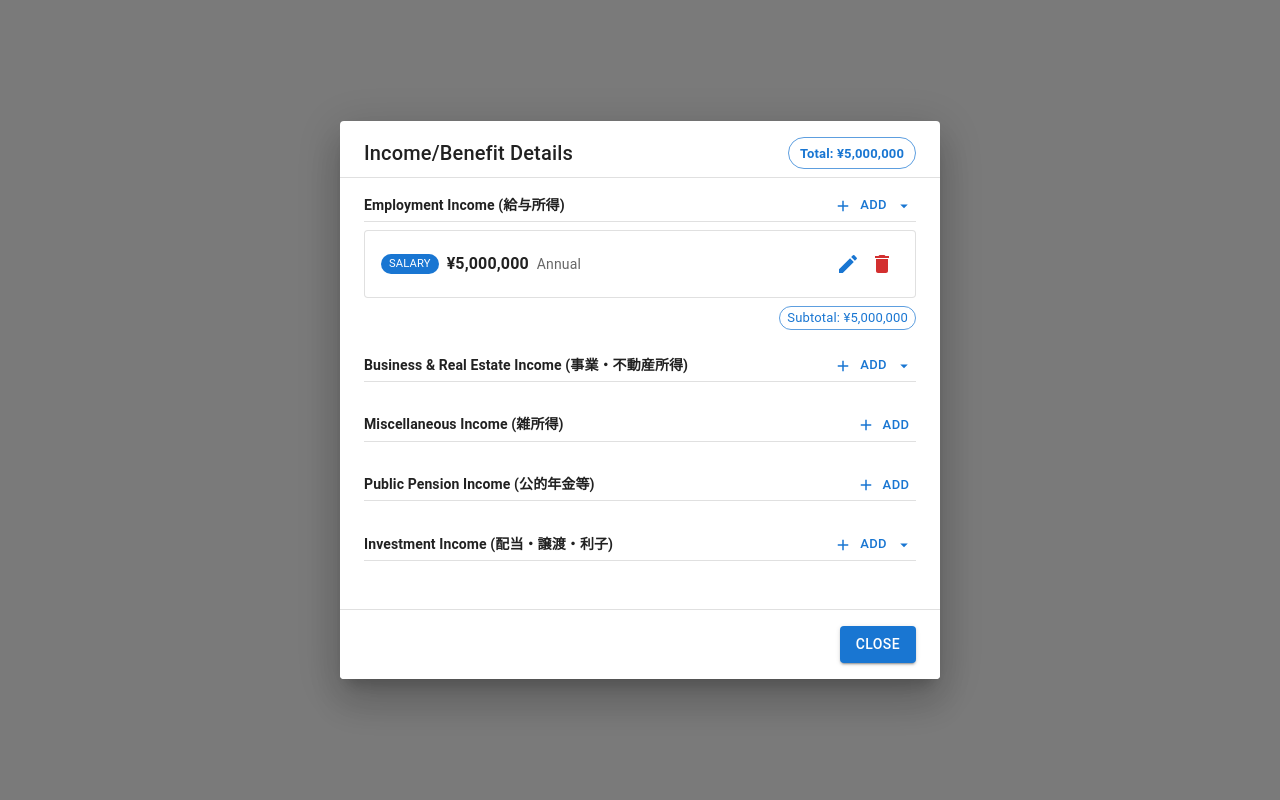
Test: IncomeDetailsModal - Adding from each section › keeps the type fixed while editing
Click the button named "edit income": (848, 264) x1=831 y1=247 x2=865 y2=281
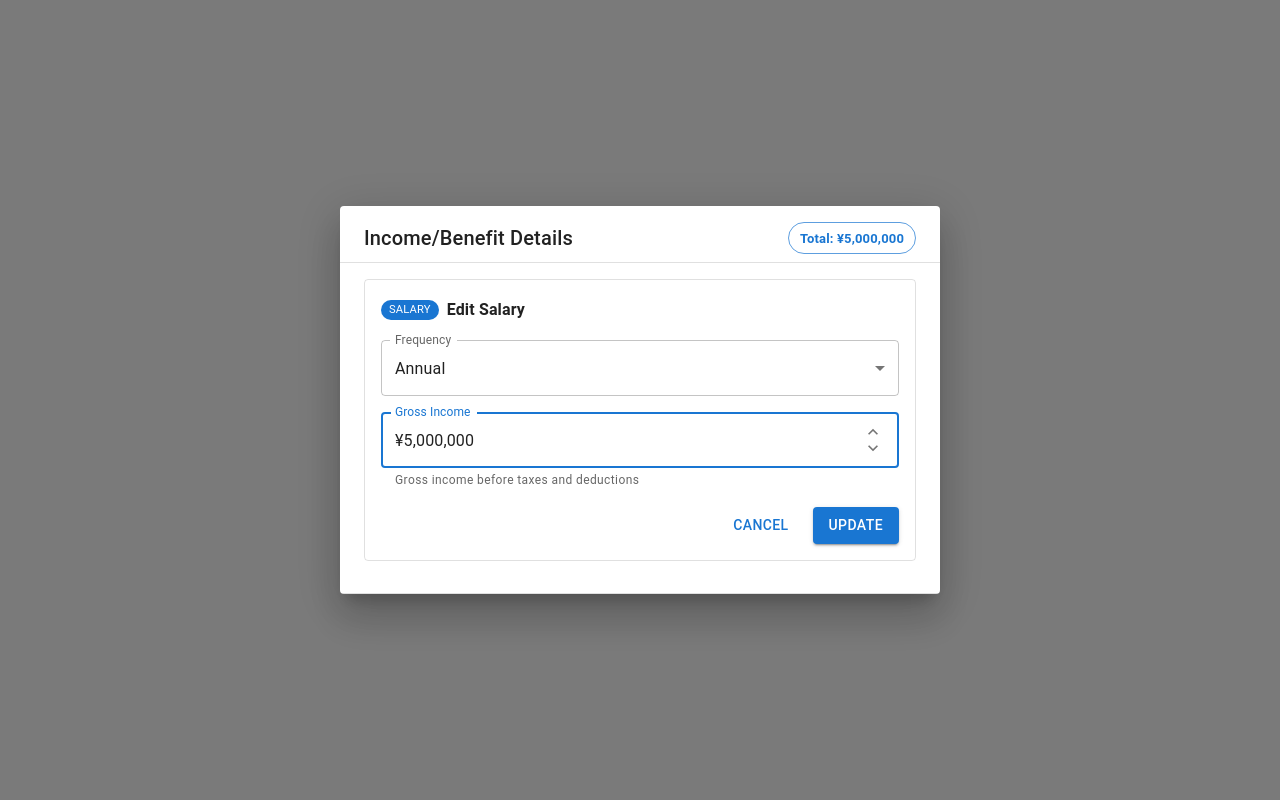
Now the heading "Edit Salary" is shown, box x1=447 y1=296 x2=525 y2=324
